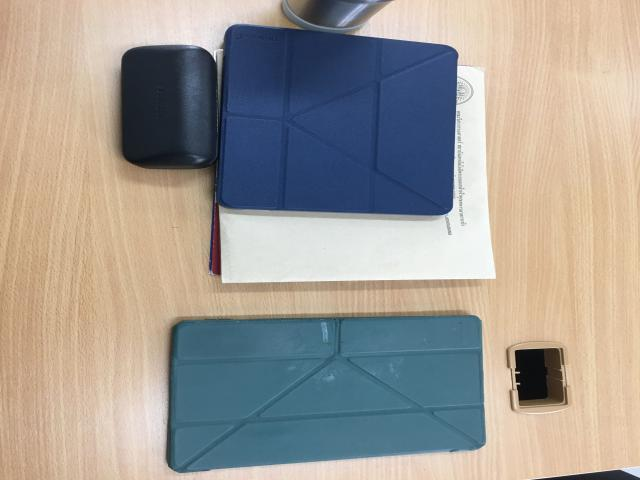Glasses: (119, 45, 222, 171)
bottle: (279, 0, 400, 35)
